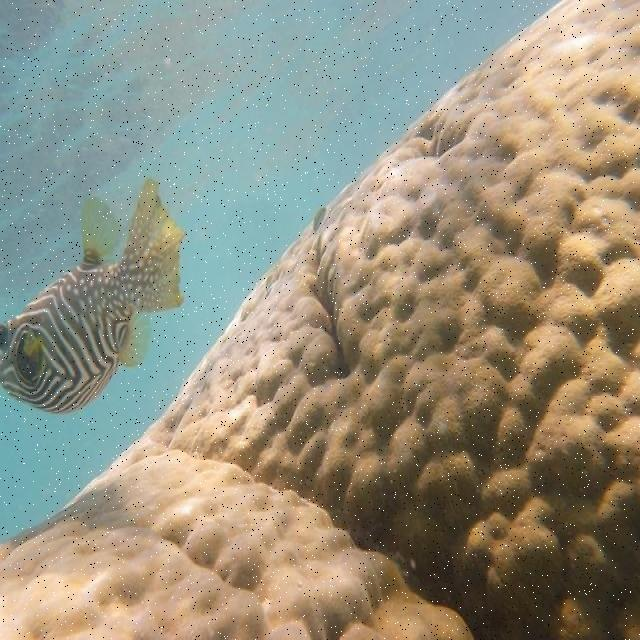fish: (0, 177, 188, 415)
reefs: (0, 0, 639, 639)
